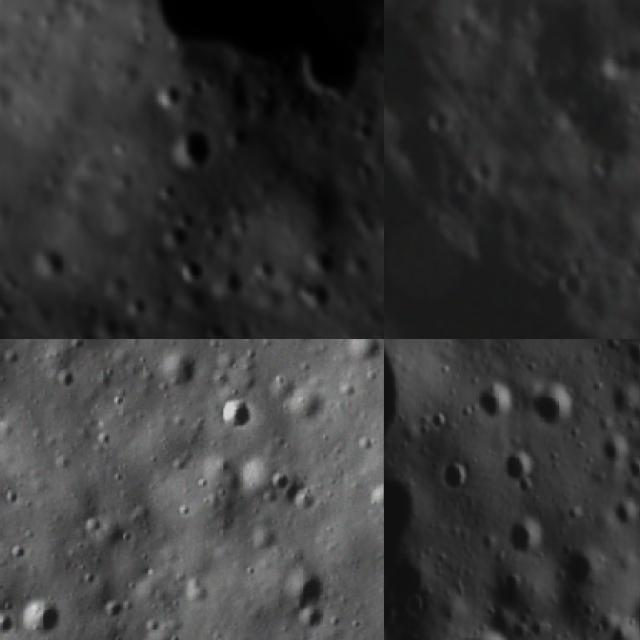crater: (12, 592, 74, 640), (524, 381, 578, 432), (151, 349, 204, 398), (499, 439, 542, 496), (561, 547, 604, 600), (278, 572, 331, 612), (278, 478, 329, 518), (165, 124, 205, 173), (218, 388, 258, 428), (475, 382, 512, 424), (508, 514, 542, 558), (172, 254, 212, 286), (600, 432, 633, 468), (452, 167, 487, 200), (600, 612, 640, 640), (586, 148, 616, 182), (612, 385, 640, 420), (612, 499, 640, 532), (438, 465, 469, 493), (152, 85, 186, 107), (0, 604, 15, 640), (433, 107, 455, 130)
